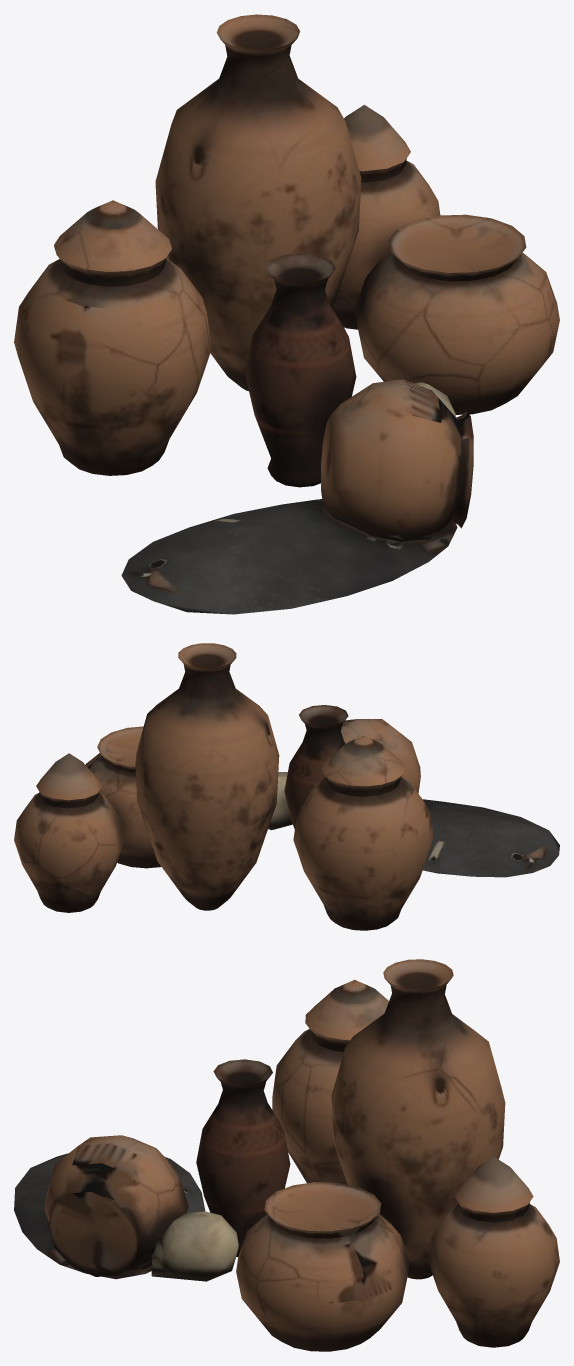
Rendered from catacomb_urn.glb.
3 views of the same model, one above another, from view 1: azimuth 30°, elevation 25°; view 2: azimuth 150°, elevation 25°; view 3: azimuth 270°, elevation 25° (orthographic). The views are drawn at different scales.
Parts seen in each view (by area): view 1: catacomb_urn; view 2: catacomb_urn; view 3: catacomb_urn.
Part boxes in pixels (bbox=[...]): catacomb_urn: bbox=[14, 14, 559, 614]; catacomb_urn: bbox=[14, 643, 559, 930]; catacomb_urn: bbox=[14, 959, 559, 1351].
Size of the model in its own units: 1.32 by 0.8743 by 1.37.
1 material, 1 textured.
